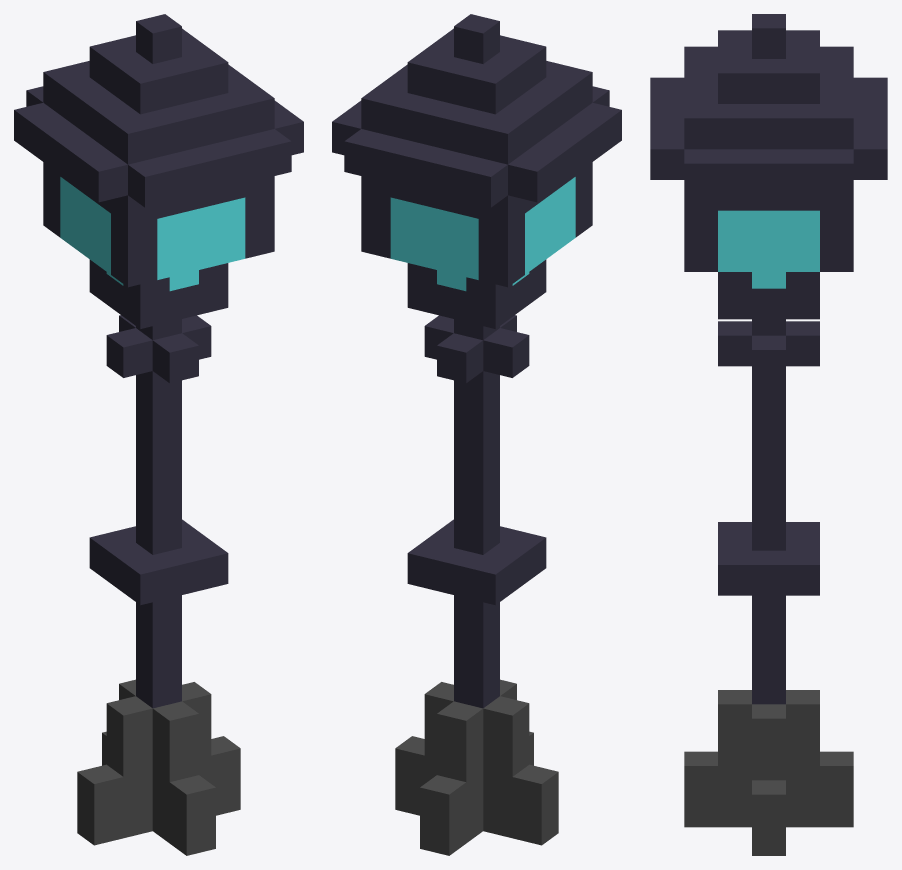
File: torinoCyberPunk-20.obj
The picture shows the model from 3 angles, left to right: view 1: azimuth 30°, elevation 25°; view 2: azimuth 150°, elevation 25°; view 3: azimuth 270°, elevation 25°; orthographic projection.
Bounding box in the file's own units: 0.7 × 2.6 × 0.7.
1 material, 1 textured.
